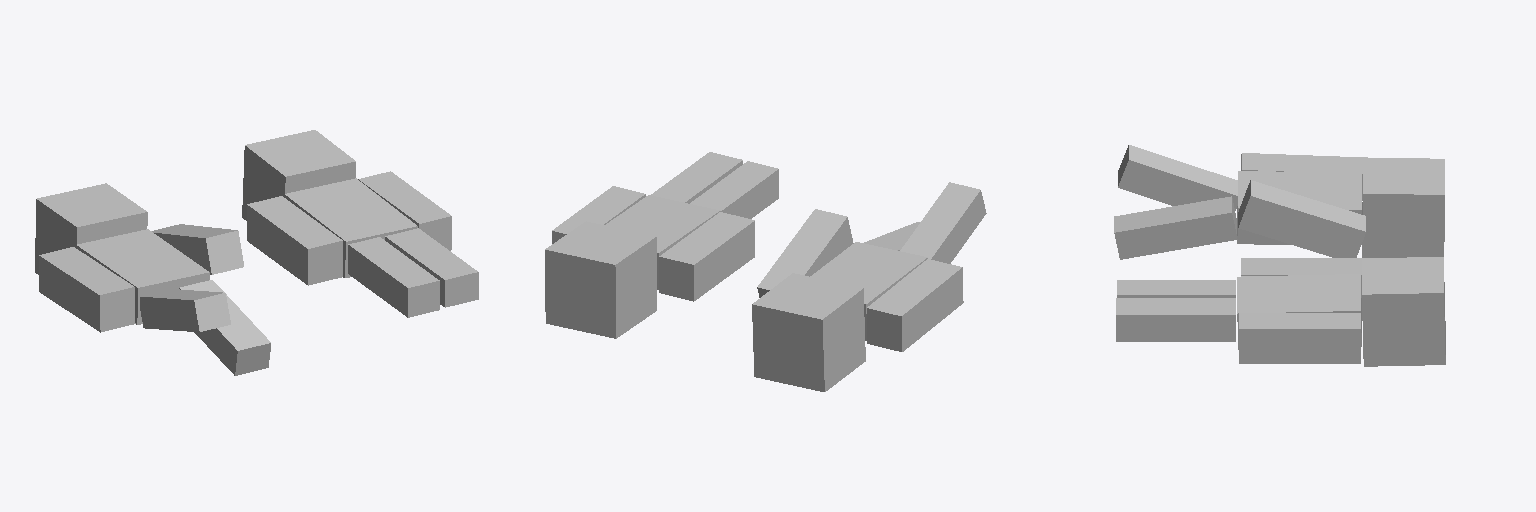
File: steve_000008.obj
3 views of the same model, side by side, from view 1: azimuth 30°, elevation 25°; view 2: azimuth 150°, elevation 25°; view 3: azimuth 270°, elevation 25° (orthographic).
Parts seen in each view (by area): view 1: Cube.001_Cube.002, Cube_Cube.001; view 2: Cube_Cube.001, Cube.001_Cube.002; view 3: Cube_Cube.001, Cube.001_Cube.002.
Boxes of the visible parts, box(x1,y1,x2,y2) form: Cube.001_Cube.002: box(242, 130, 478, 317); Cube_Cube.001: box(35, 183, 270, 375); Cube_Cube.001: box(752, 182, 986, 391); Cube.001_Cube.002: box(545, 152, 778, 338); Cube_Cube.001: box(1114, 145, 1444, 259); Cube.001_Cube.002: box(1116, 257, 1445, 366).
Bounding box in the file's own units: 6.55 × 1.59 × 5.36.